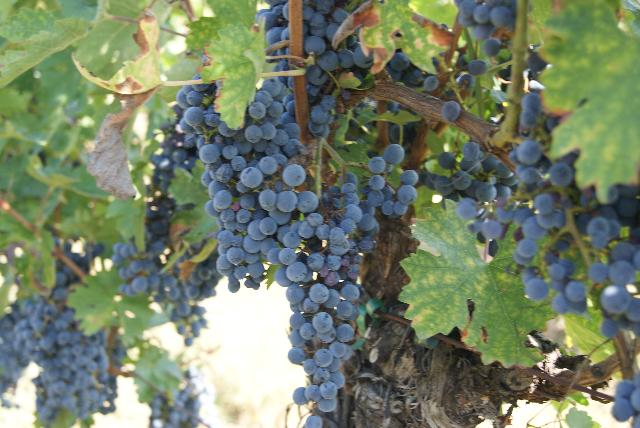grapes: (275, 180, 396, 410), (176, 79, 306, 291)
